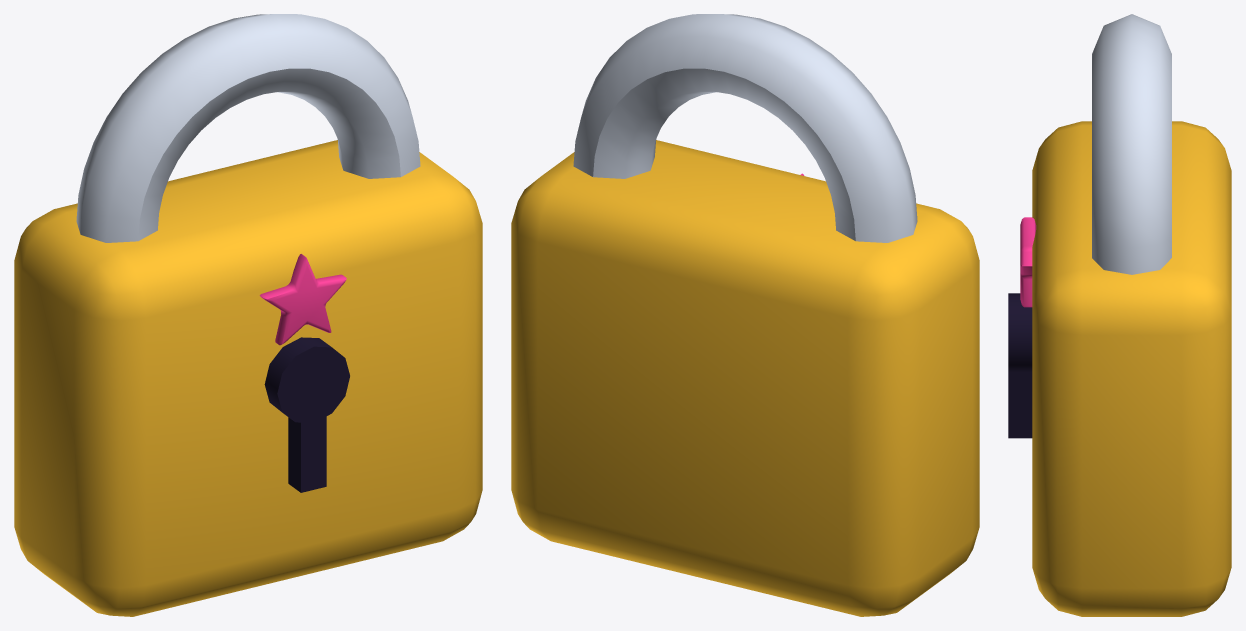
The model's file is base_padlock.obj.
The picture shows the model from 3 angles, left to right: view 1: azimuth 30°, elevation 25°; view 2: azimuth 150°, elevation 25°; view 3: azimuth 270°, elevation 25°; orthographic projection. The views are drawn at different scales.
Visible parts, largest first — view 1: base_padlock; view 2: base_padlock; view 3: base_padlock.
Part boxes in pixels (<box>): base_padlock: <box>14,14,482,616</box>; base_padlock: <box>511,14,979,616</box>; base_padlock: <box>1008,14,1231,616</box>.
Size of the model in its own units: 2.2 by 2.82 by 1.12.
Materials: 1 (1 with a texture image).
